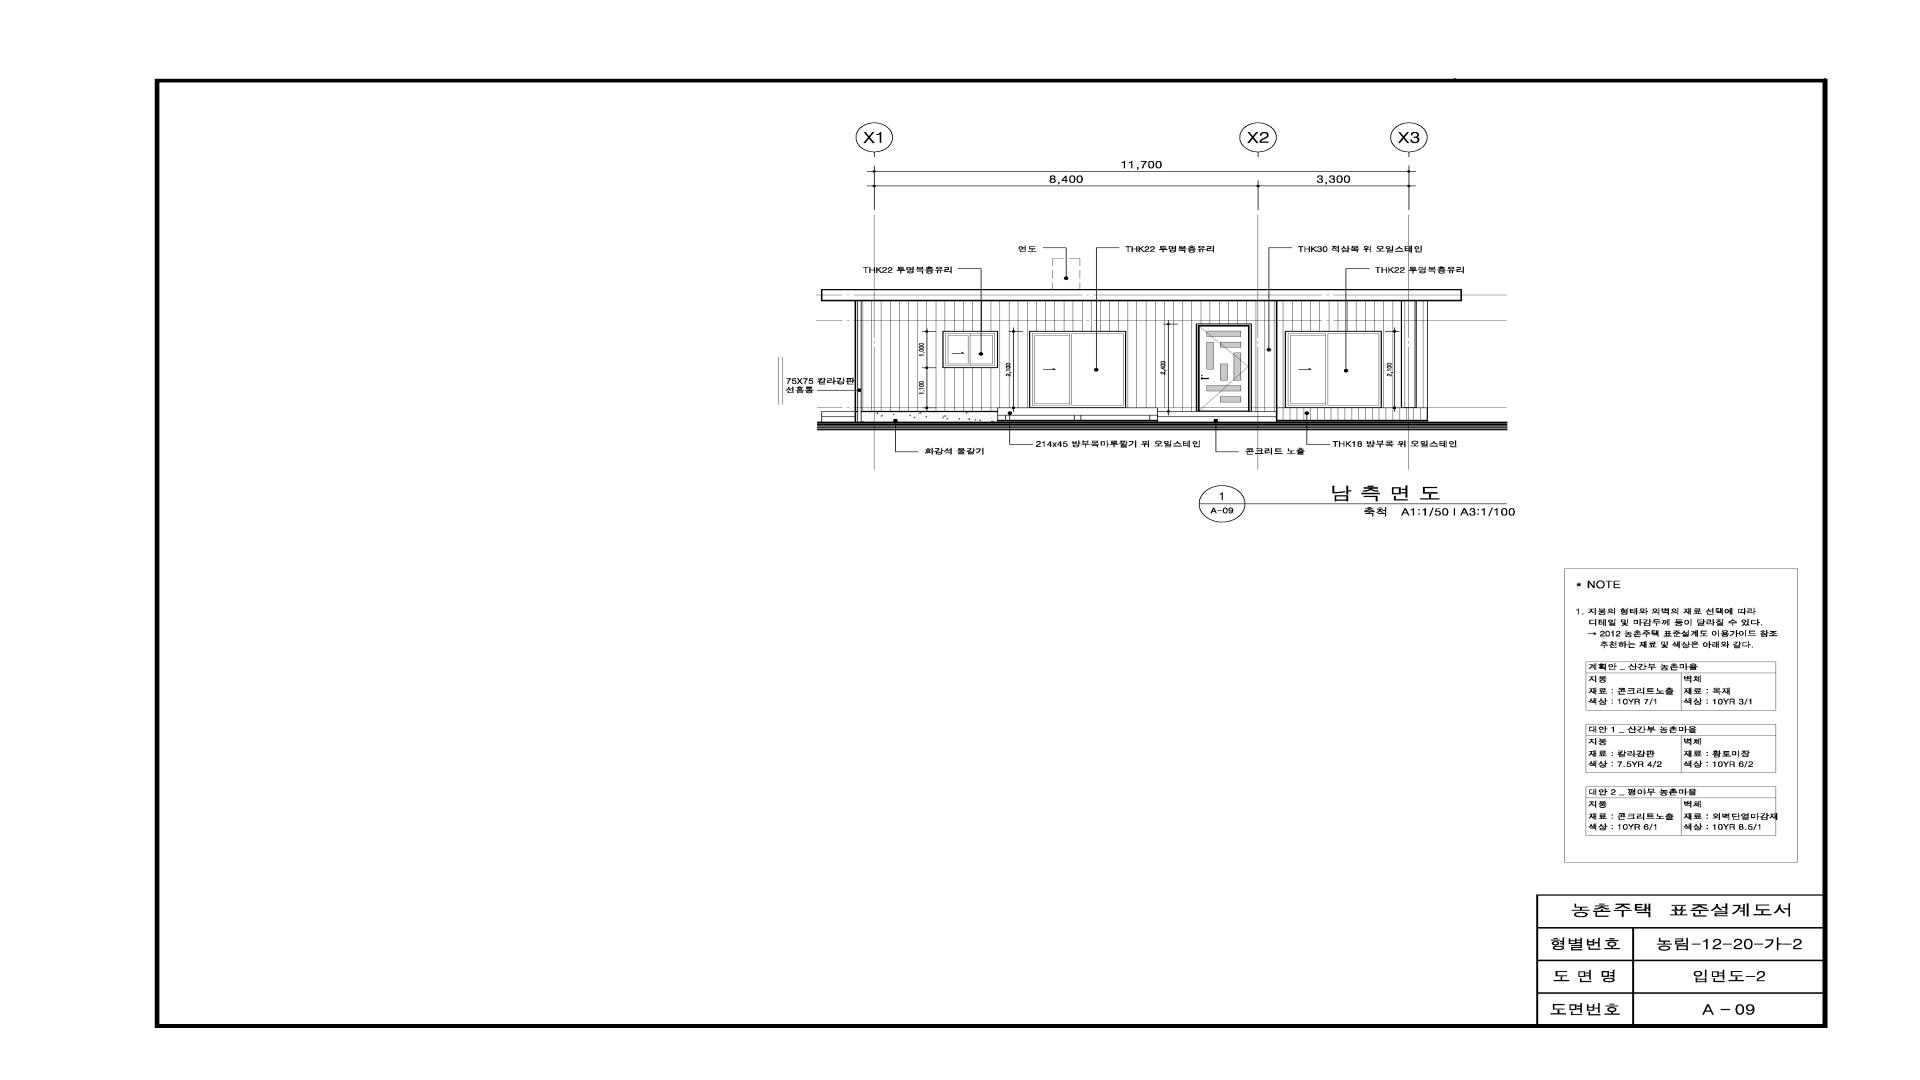door: (1029, 331, 1126, 407), (1196, 323, 1251, 411)
wall: (820, 289, 1462, 422)
window: (1284, 331, 1382, 409), (943, 331, 998, 368)
